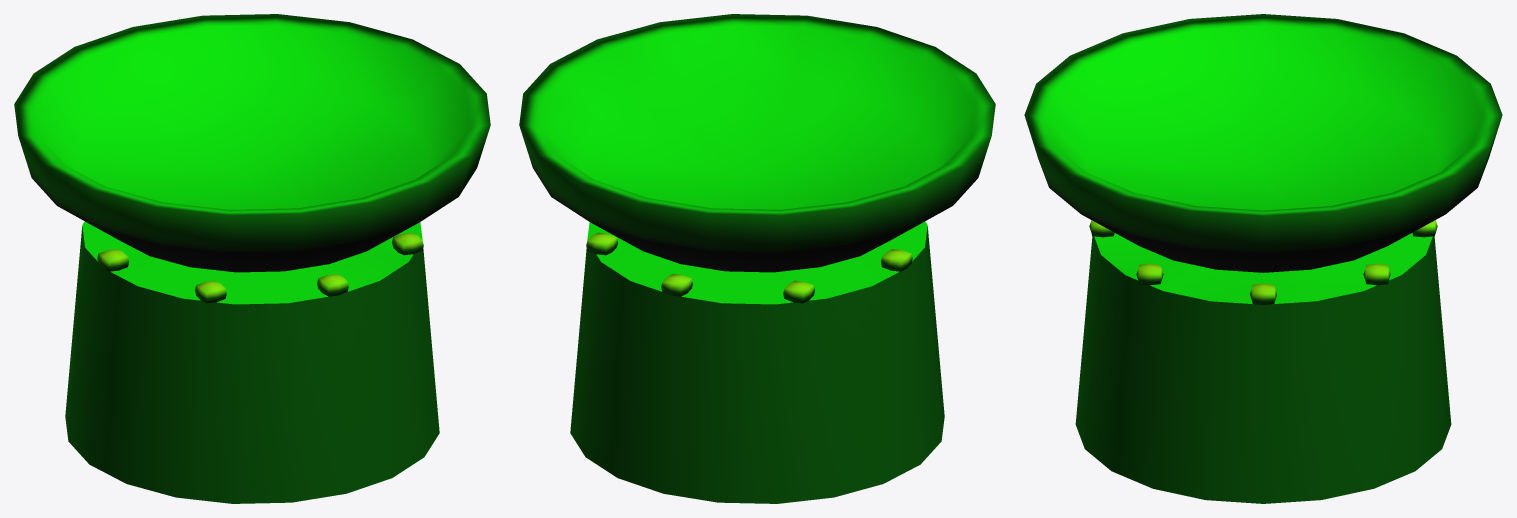
Rendered from strike_bowl.glb.
The picture shows the model from 3 angles, left to right: view 1: azimuth 30°, elevation 25°; view 2: azimuth 150°, elevation 25°; view 3: azimuth 270°, elevation 25°; orthographic projection.
Parts seen in each view (by area): view 1: strike_bowl; view 2: strike_bowl; view 3: strike_bowl.
Part boxes in pixels (left/top/right/bottom): strike_bowl: left=14, top=14, right=490, bottom=503; strike_bowl: left=519, top=14, right=995, bottom=503; strike_bowl: left=1024, top=14, right=1502, bottom=503.
Size of what is drawn, in the model's own units: 1.4 by 1 by 1.4.
